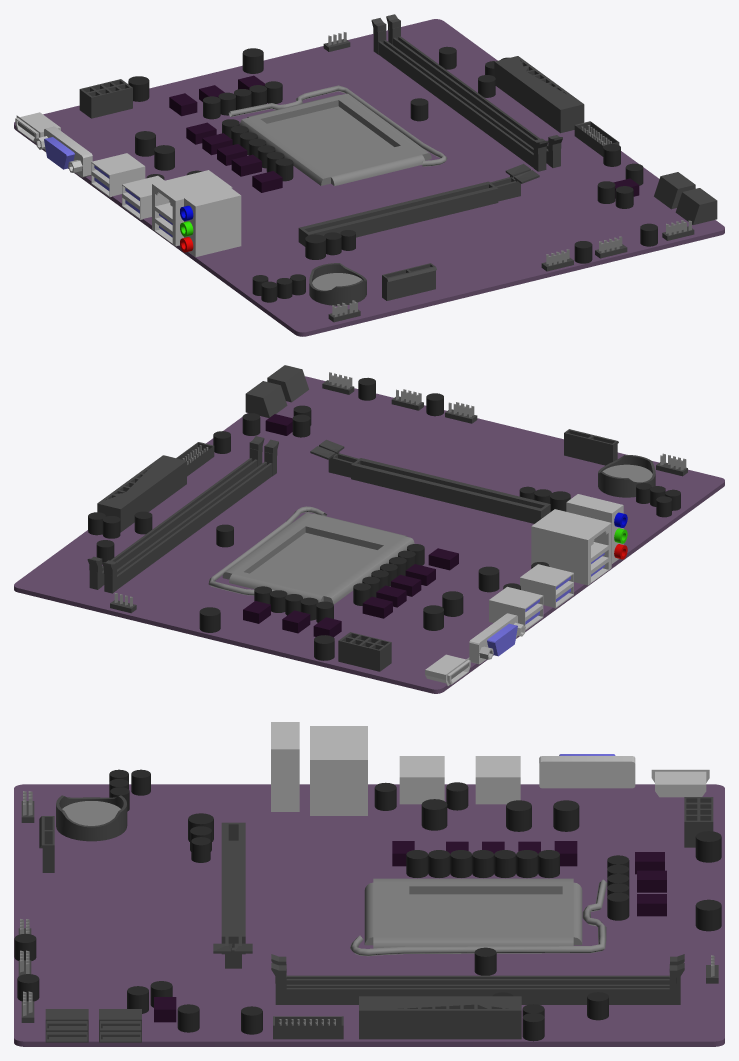
File: LGA 1700 H610.fbx
3 renders of one model, top to bottom at view 1: azimuth 30°, elevation 25°; view 2: azimuth 150°, elevation 25°; view 3: azimuth 270°, elevation 25°, orthographic. The views are drawn at different scales.
Parts seen in each view (by area): view 1: Cube, Cube.031, Cube.001, Cube.018, Cube.019, Cube.007, Cube.008, Cylinder.001, Cylinder.016, Cylinder.015, Cube.012, Cube.021 (+13 smaller); view 2: Cube, Cube.031, Cube.001, Cube.018, Cube.008, Cube.019, Cylinder.001, Cube.012, Cylinder.015, Cube.021, Cube.009, Cube.011 (+15 smaller); view 3: Cube, Cube.031, Cube.001, Cube.019, Cube.008, Cylinder.015, Cube.018, Cube.012, Cylinder.001, NurbsPath, Cube.007, Cube.011 (+27 smaller).
Boxes of the visible parts, box(x1,y1,x2,y2) form: Cube: box(14, 19, 724, 336); Cube.031: box(239, 93, 431, 185); Cube.001: box(371, 14, 562, 171); Cube.018: box(298, 163, 539, 246); Cube.019: box(494, 56, 584, 133); Cube.007: box(184, 187, 241, 257); Cube.008: box(152, 170, 232, 246); Cylinder.001: box(309, 263, 366, 305); Cylinder.016: box(203, 81, 282, 119); Cylinder.015: box(222, 119, 293, 181); Cube.012: box(36, 126, 92, 177); Cube.021: box(79, 79, 132, 118); Cube: box(14, 376, 724, 693); Cube.031: box(222, 512, 414, 604); Cube.001: box(87, 436, 278, 593); Cube.018: box(310, 439, 550, 523); Cube.008: box(531, 509, 611, 585); Cube.019: box(97, 455, 186, 532); Cylinder.001: box(598, 455, 655, 497); Cube.012: box(469, 613, 525, 664); Cylinder.015: box(353, 544, 424, 605); Cube.021: box(338, 632, 391, 671); Cube.009: box(520, 564, 573, 608); Cube.011: box(489, 586, 543, 629); Cube: box(14, 784, 724, 1046); Cube.031: box(364, 878, 582, 948); Cube.001: box(271, 954, 684, 1004); Cube.019: box(359, 996, 521, 1039); Cube.008: box(310, 726, 367, 815); Cylinder.015: box(406, 850, 559, 877); Cube.018: box(213, 822, 252, 968); Cube.012: box(539, 754, 635, 788); Cylinder.001: box(56, 795, 127, 841); NurbsPath: box(350, 879, 607, 956); Cube.007: box(271, 722, 299, 811); Cube.011: box(475, 756, 520, 804).
Size of the model in its own units: 42.63 by 5.08 by 48.24.
